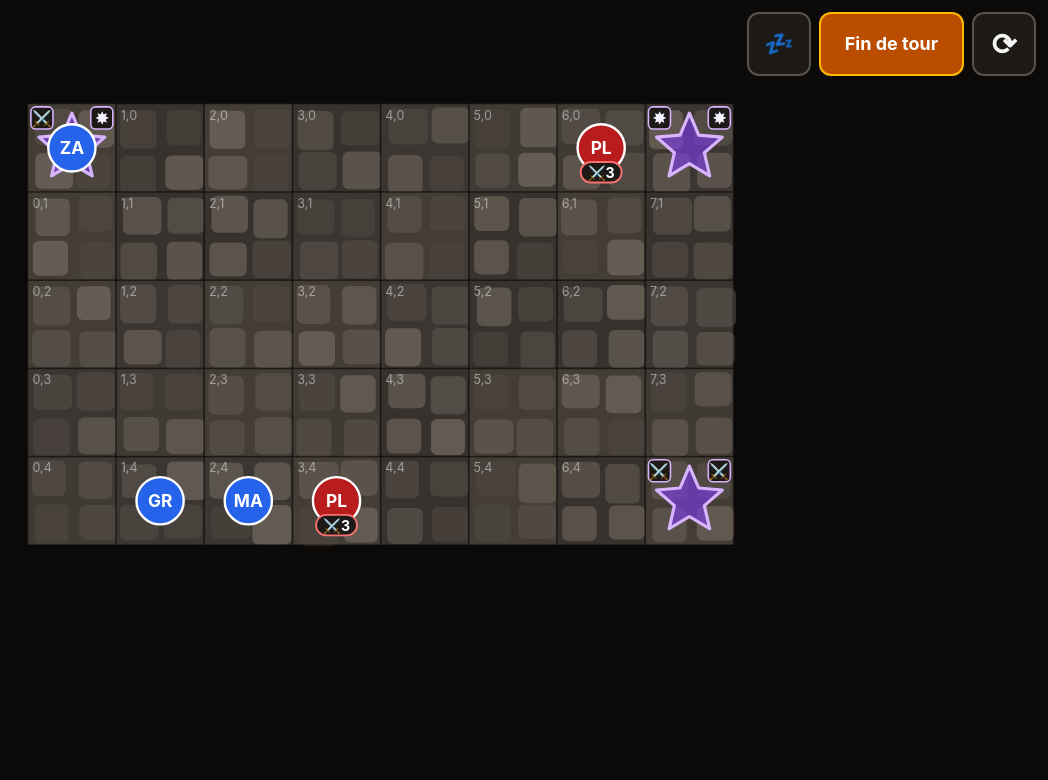
Test case: plateau : mode sync › le bouton Sync est toujours visible et bascule le mode, sans rien dans le menu
Later steps or results of the test are not shown.
Click the button with test id "sync-toggle". click: point(1004, 44)
box: [972,12,1036,76]
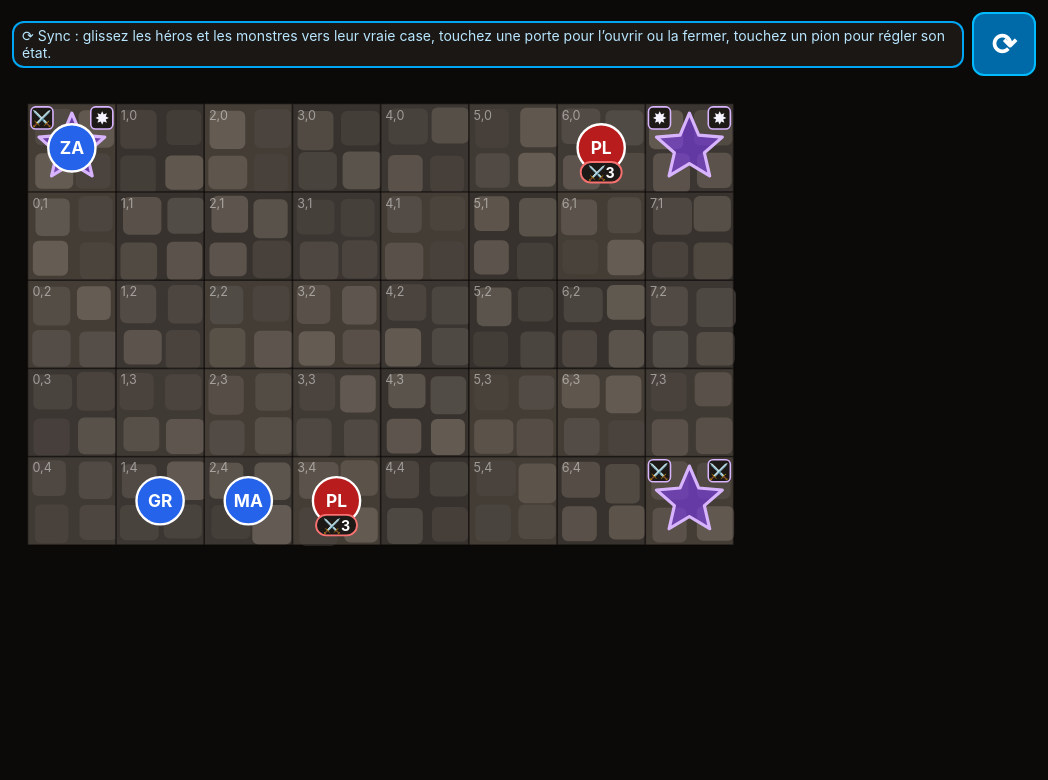
Now the element with test id "sync-panel" is shown, box [12,20,964,68]
